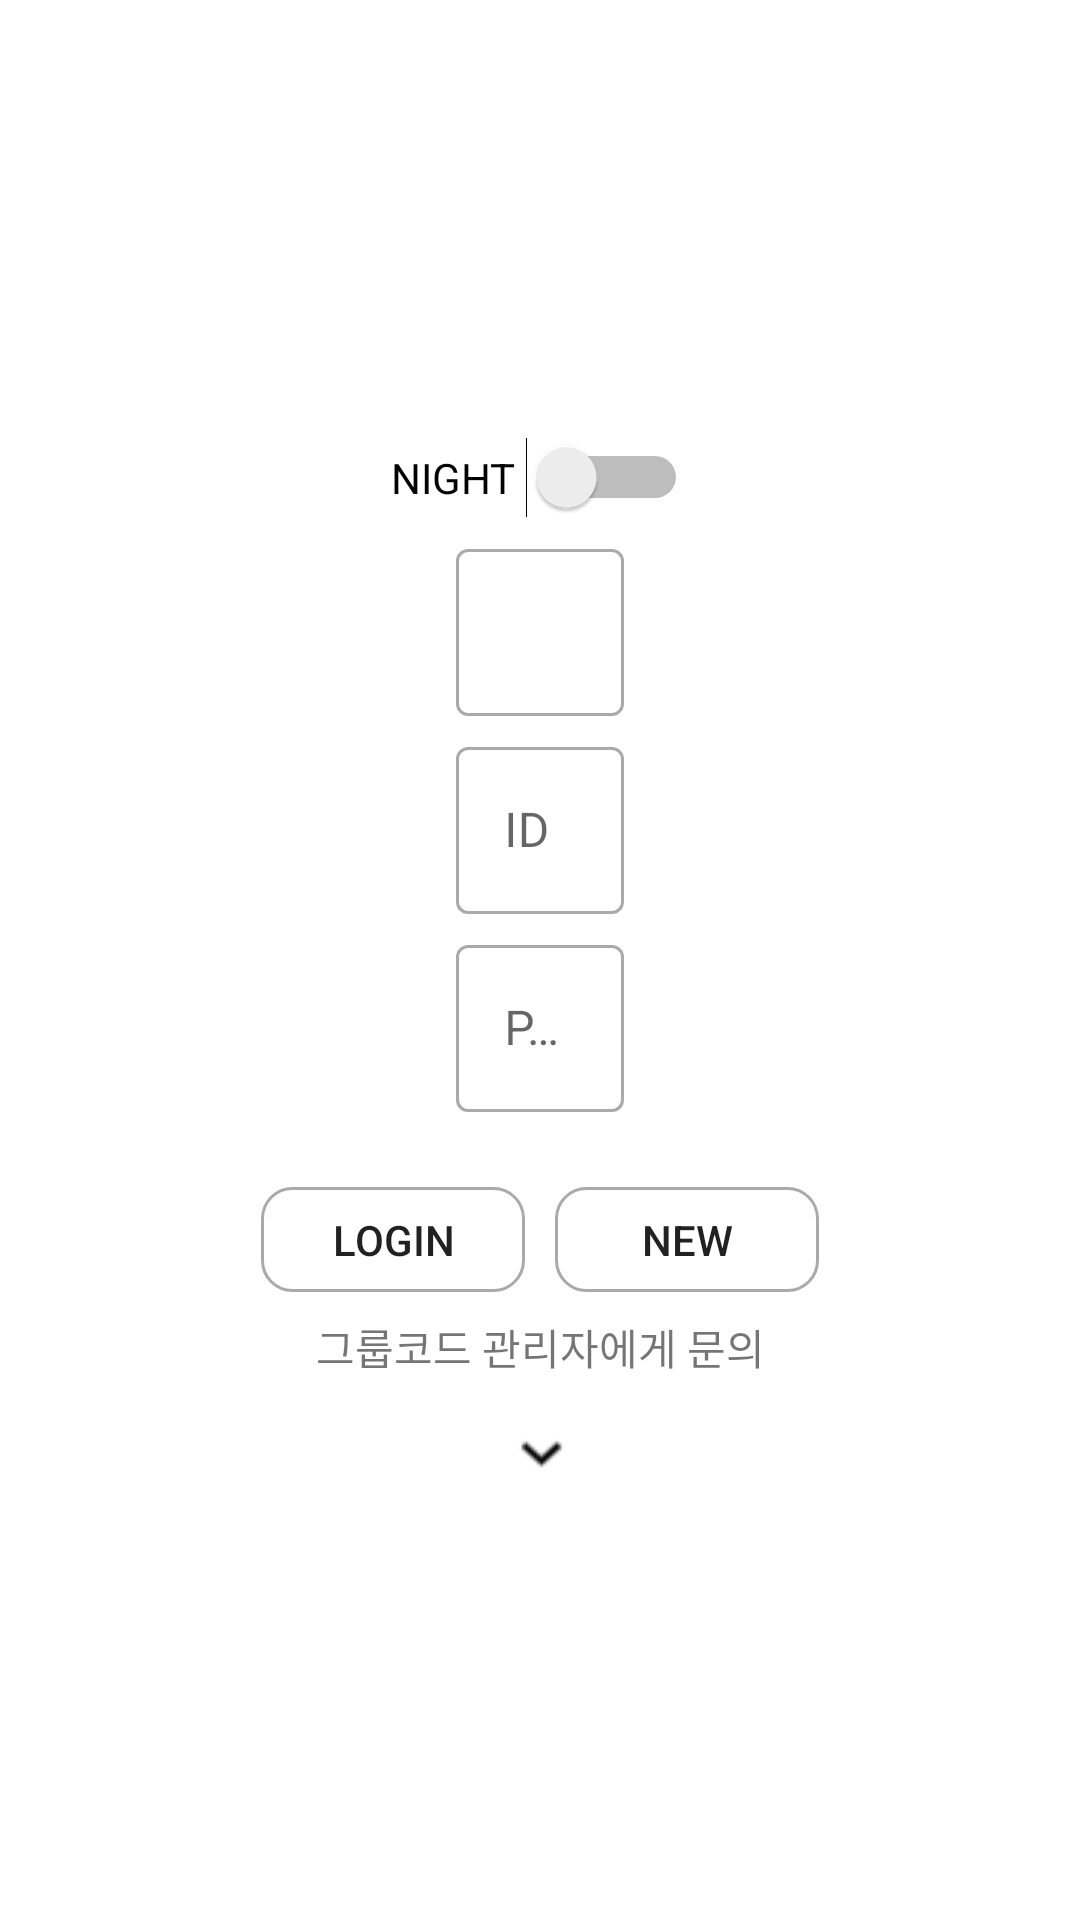

Icon bounding boxes for this 1080x1920 phone screenshot, format (x1, y1, x2, y2):
expand more: (521, 1441, 562, 1467)
